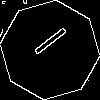I: (25, 25, 69, 63)
